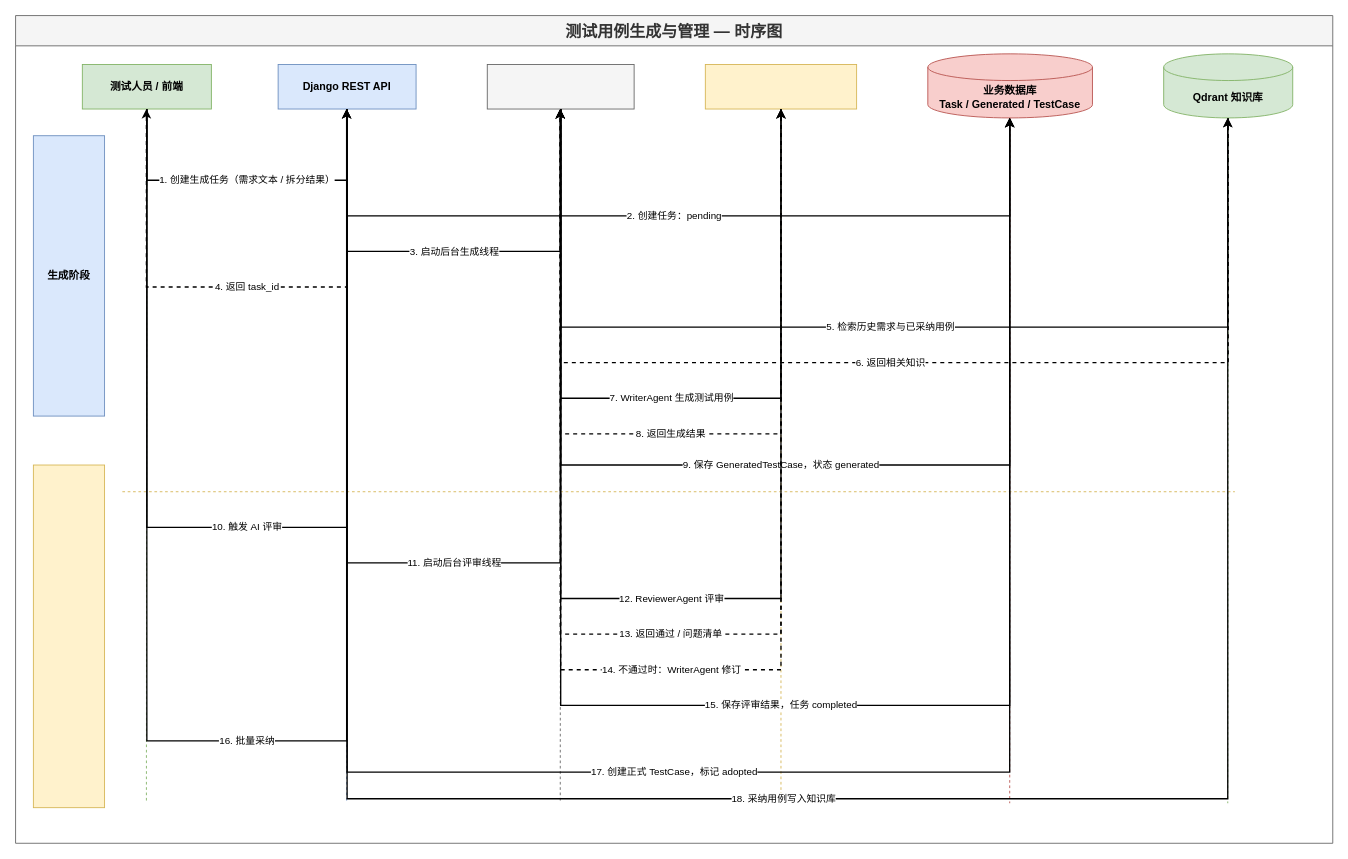
Some shapes in this 1348 by 859 pixel diagram are drawn without their labels. The shapes that lost their labels are listed below. From the top down, each one's box as (x1, y1, x2, y2) in pixels, then its label:
(486, 64, 634, 109): TestCaseOrchestrator 后台线程
(704, 64, 857, 109): AI 服务 Writer / Reviewer
(32, 464, 105, 808): 评审与采纳阶段
